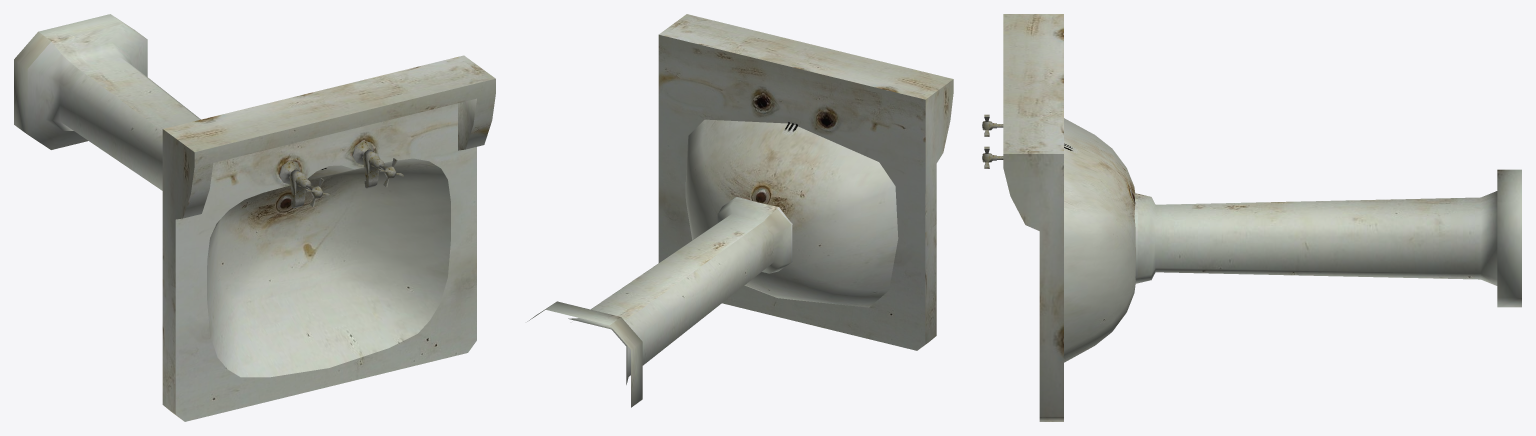
Rendered from furniture_french_sink2.glb.
3 renders of one model, left to right at view 1: azimuth 30°, elevation 25°; view 2: azimuth 150°, elevation 25°; view 3: azimuth 270°, elevation 25°, orthographic. The views are drawn at different scales.
Size of the model in its own units: 25.18 by 22.83 by 41.05.
Materials: 2 (2 with a texture image).
